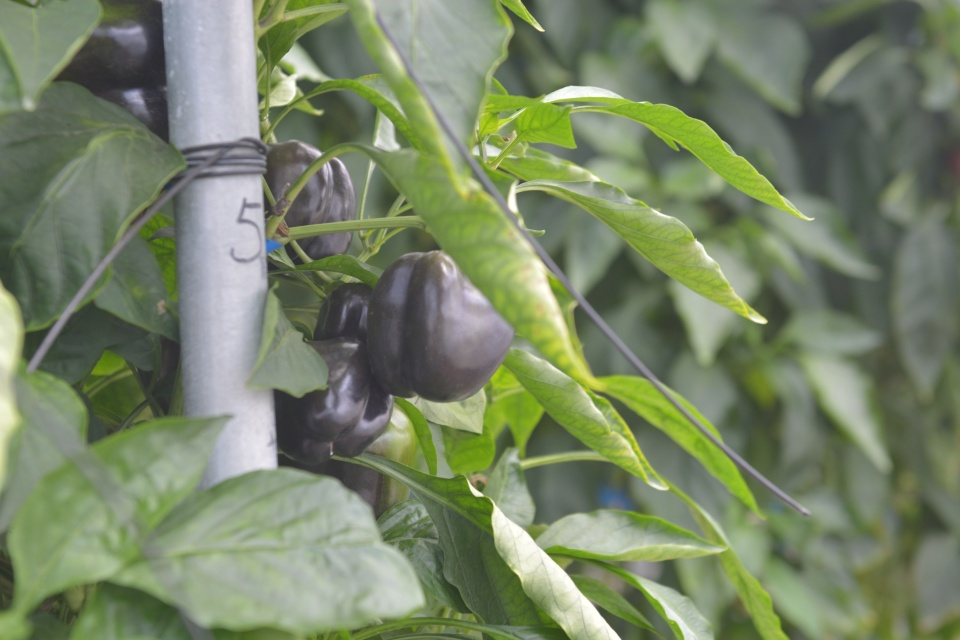fruit: (365, 247, 516, 403), (277, 400, 416, 523), (271, 333, 395, 468), (50, 14, 168, 148), (261, 144, 359, 281), (312, 281, 375, 342)
